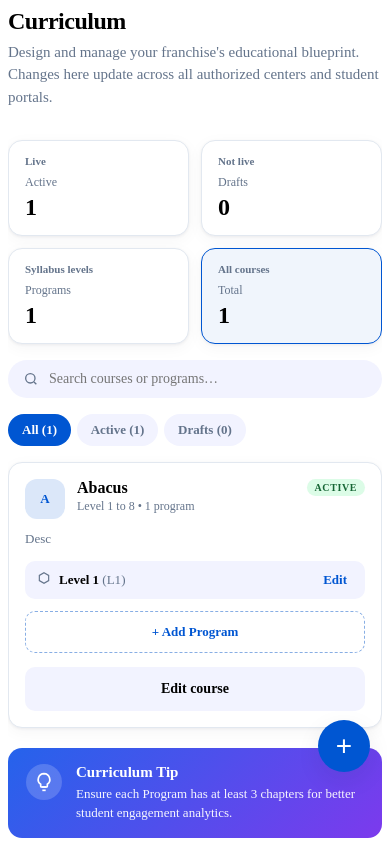
CurriculumPage › regression_curriculum_mobile_active_course_opens_editable_detail
Click the button "Edit course": coordinates (195, 689) [25, 667, 365, 711]
(page scrolled)
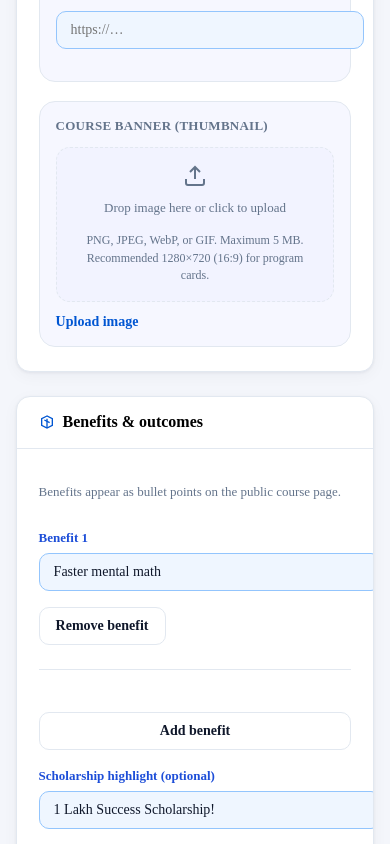
expect the dialog named "Course details" is shown: met
expect the heading "Benefits & outcomes" is shown: met, box [63, 413, 203, 431]
